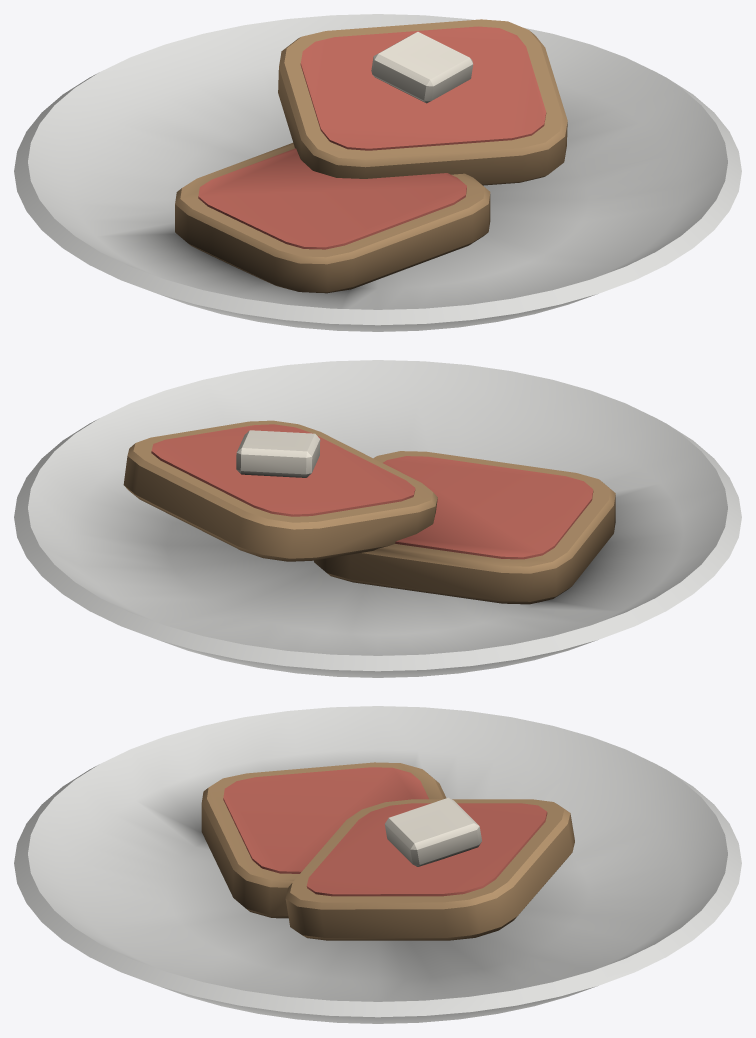
The model's file is meal_toast.glb.
3 views of the same model, one above another, from view 1: azimuth 30°, elevation 25°; view 2: azimuth 150°, elevation 25°; view 3: azimuth 270°, elevation 25° (orthographic).
Parts seen in each view (by area): view 1: PART; view 2: PART; view 3: PART.
Part boxes in pixels (x1,y1,x2,y2): PART: (14,14,741,331); PART: (14,360,741,677); PART: (14,706,741,1023).
Bounding box in the file's own units: 0.2772 × 0.0587 × 0.2772.
